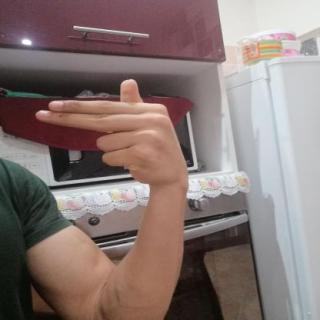GHAYN: (22, 72, 198, 193)
